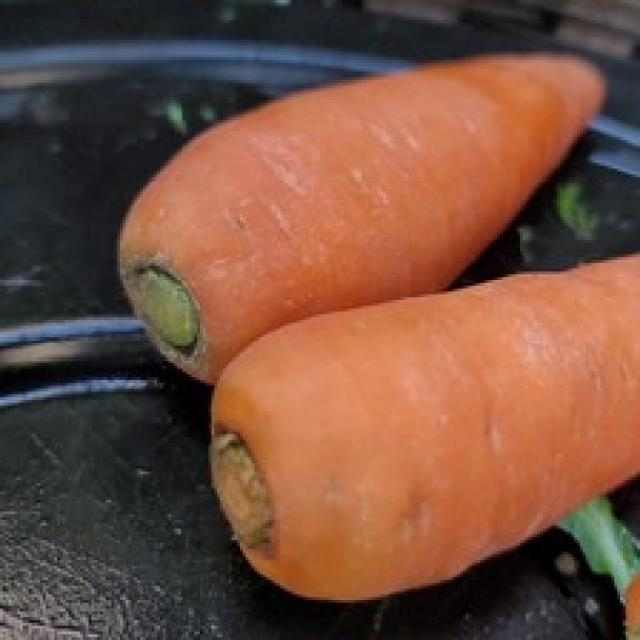carrot: (120, 42, 604, 377), (208, 255, 640, 606)
